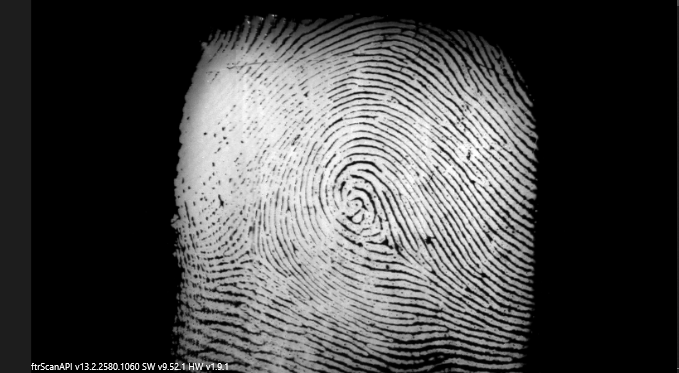nucelo: (333, 179, 385, 229)
verticilo: (233, 242, 268, 273), (369, 232, 404, 256)
